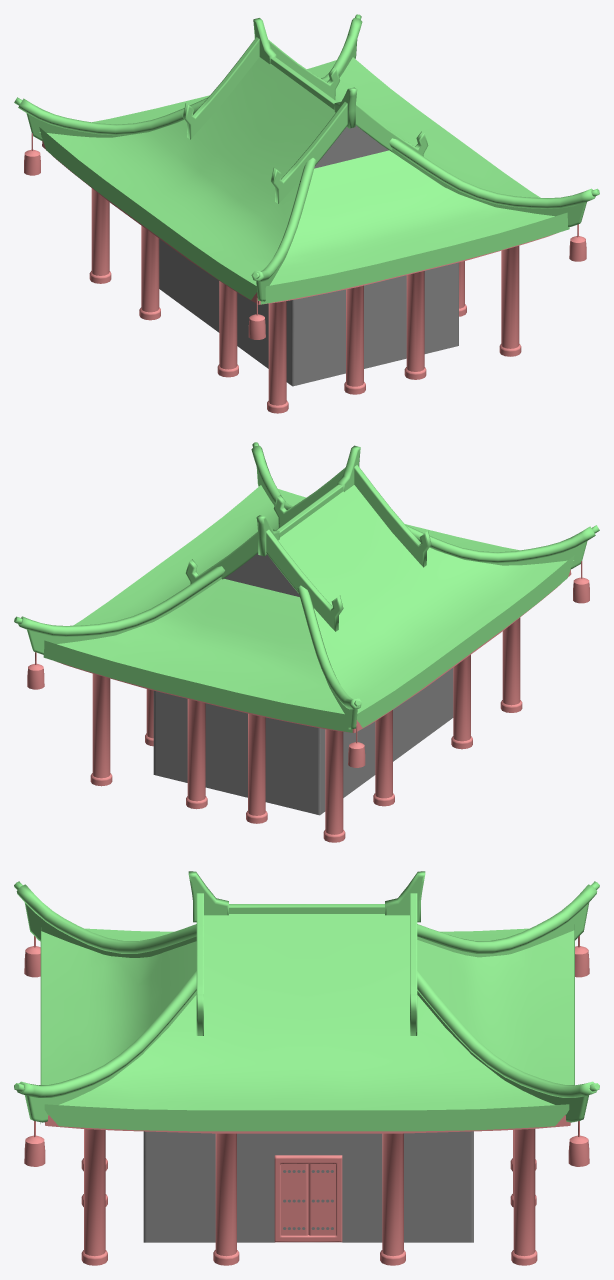
File: CHN_SmallHouse01.gltf
The picture shows the model from 3 angles, top to bottom: view 1: azimuth 30°, elevation 25°; view 2: azimuth 150°, elevation 25°; view 3: azimuth 270°, elevation 25°; orthographic projection. The views are drawn at different scales.
Visible parts, largest first — view 1: CHN_SmallHouse01; view 2: CHN_SmallHouse01; view 3: CHN_SmallHouse01.
Boxes of the visible parts, x1,y1,x2,y2 form: CHN_SmallHouse01: [14, 14, 599, 413]; CHN_SmallHouse01: [14, 442, 599, 842]; CHN_SmallHouse01: [14, 871, 599, 1265].
Bounding box in the file's own units: 16.76 × 12.15 × 20.25.
